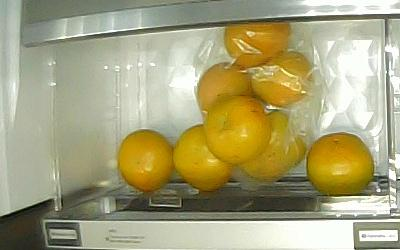persimmon: (202, 93, 271, 165), (306, 132, 374, 196), (243, 111, 304, 182), (173, 123, 231, 192), (118, 128, 174, 192), (196, 62, 252, 112)
persimmon_vinyl: (251, 50, 312, 105), (222, 22, 290, 66)
